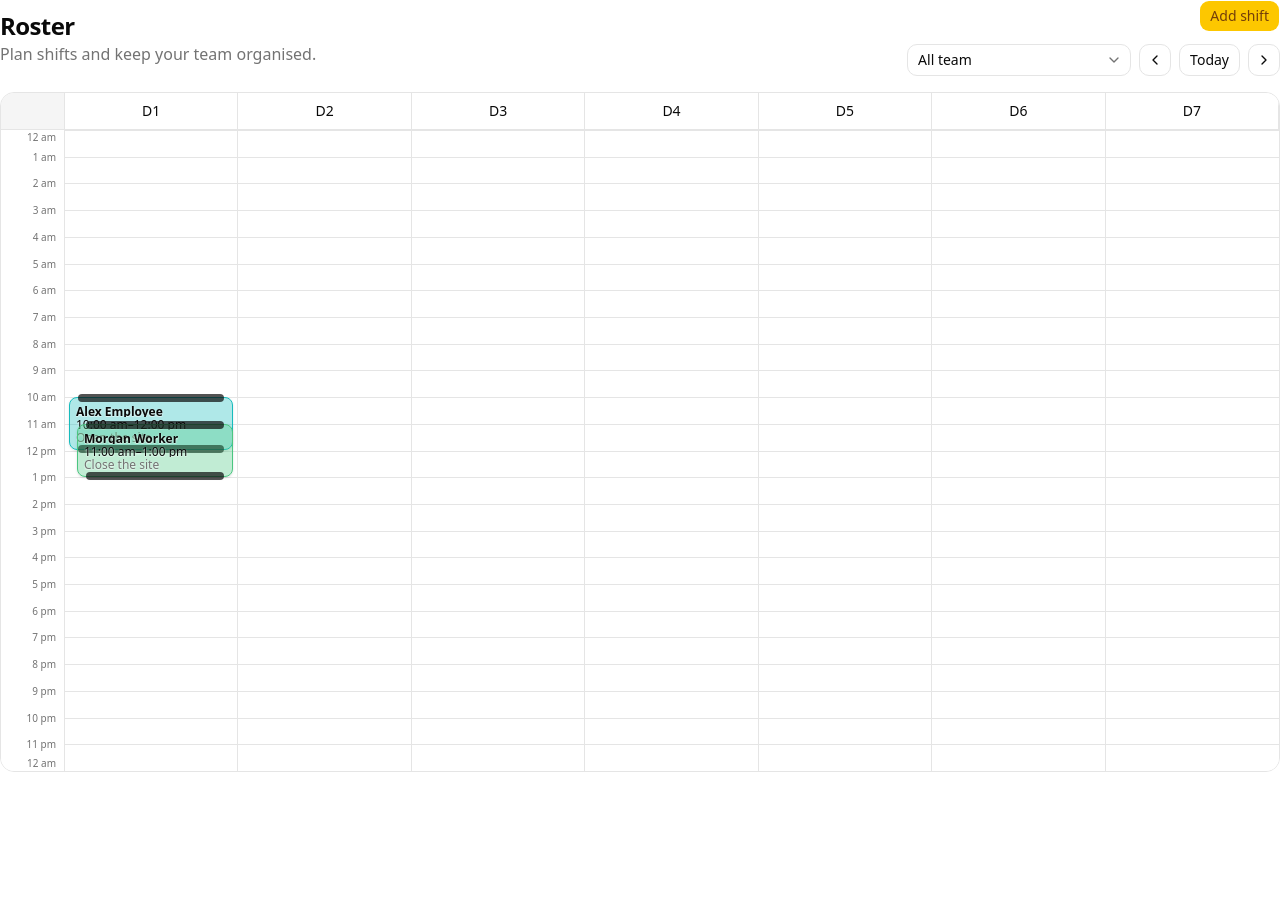
Test: RosterCalendar › opens the date calendar from anywhere in the roster date field
Click the button "Add shift". click: (1240,16)
box: [1199,0,1279,32]
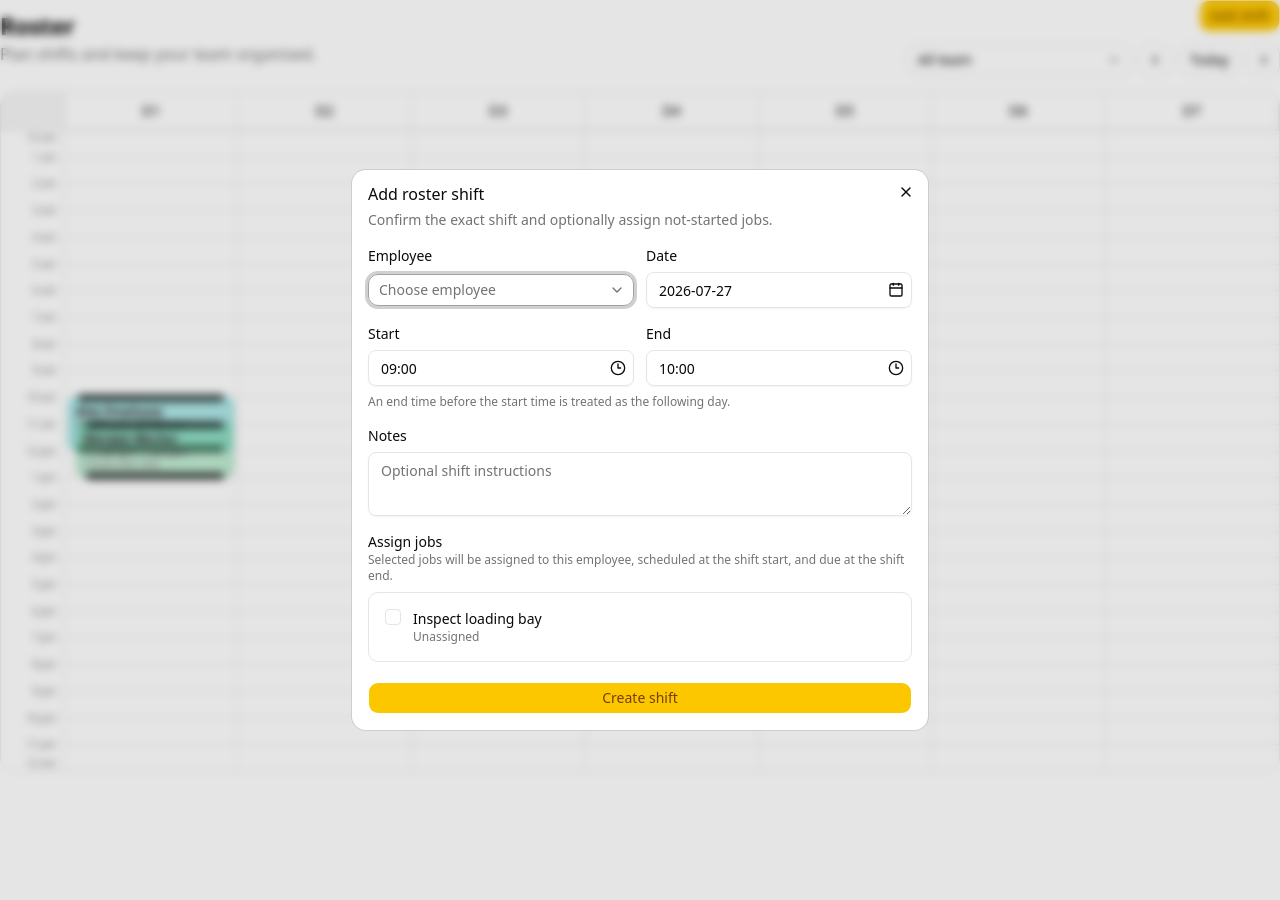
Click the field labelled "Date". click: (779,290)
box: [646,272,912,308]
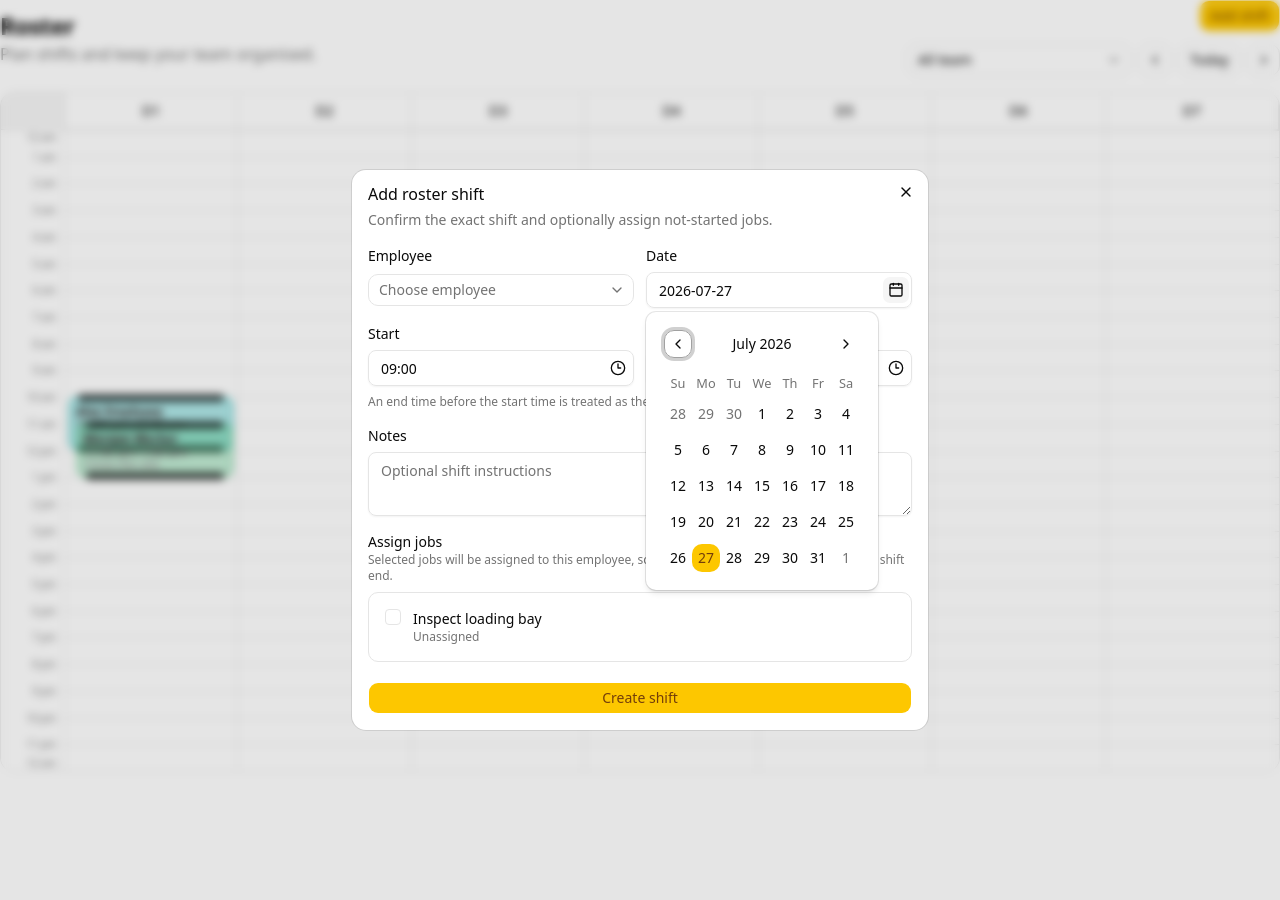
Now the button that starts with "July 2026" is shown, box [656,322,868,580]
